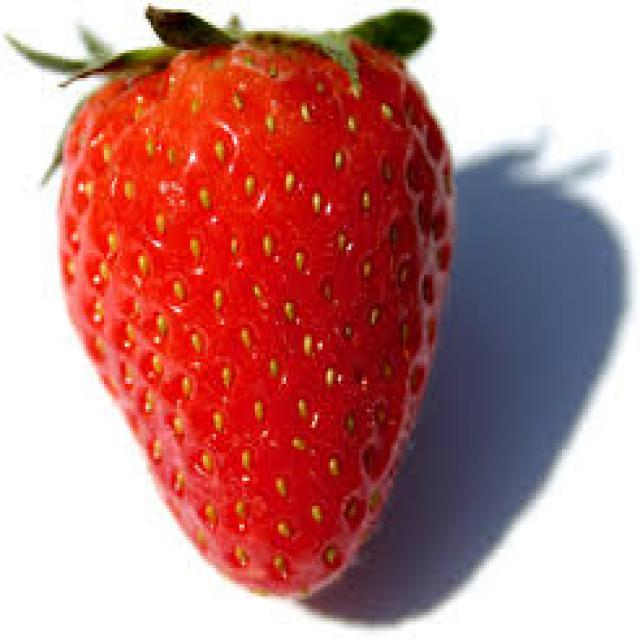organic waste: (3, 3, 450, 596)
